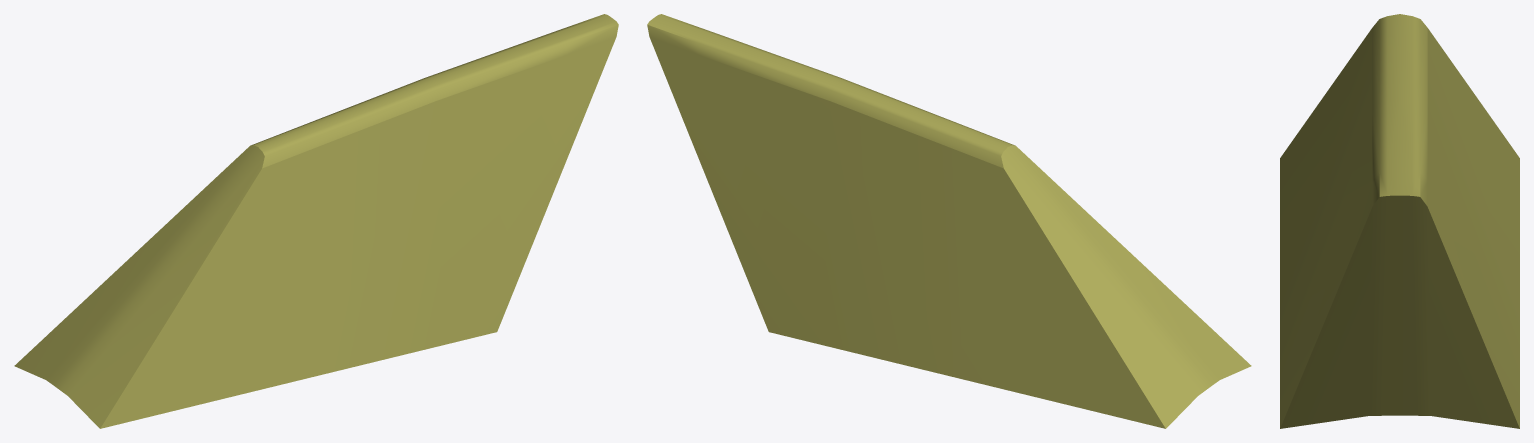
Rendered from Ship_Wing_02.fbx.
3 renders of one model, left to right at view 1: azimuth 30°, elevation 25°; view 2: azimuth 150°, elevation 25°; view 3: azimuth 270°, elevation 25°, orthographic. The views are drawn at different scales.
Visible parts, largest first — view 1: Ship_Body; view 2: Ship_Body; view 3: Ship_Body.
Boxes of the visible parts, x1=… form: Ship_Body: x1=14, y1=14, x2=618, y2=428; Ship_Body: x1=647, y1=14, x2=1251, y2=428; Ship_Body: x1=1280, y1=14, x2=1519, y2=428.
Bounding box in the file's own units: 2.03 × 0.855 × 0.5454.
